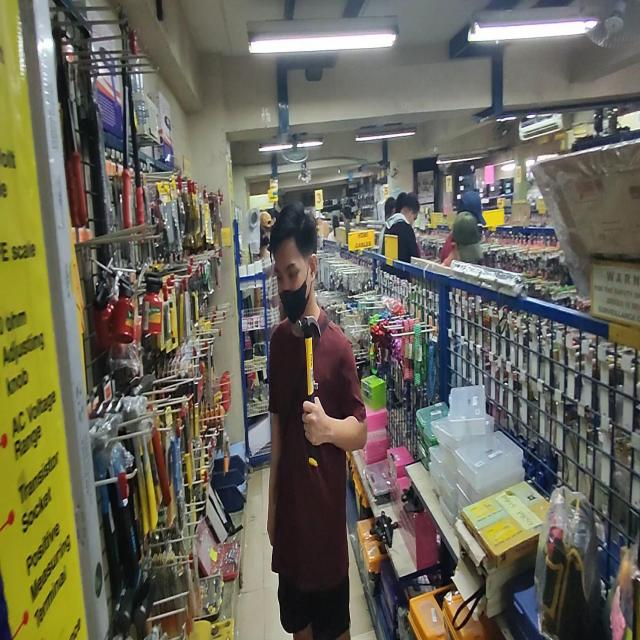hammer: (298, 314, 321, 467)
